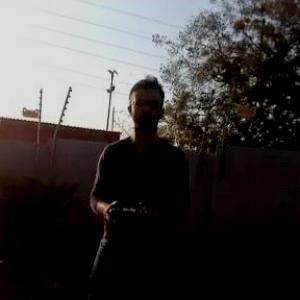follow: (72, 70, 198, 299)
